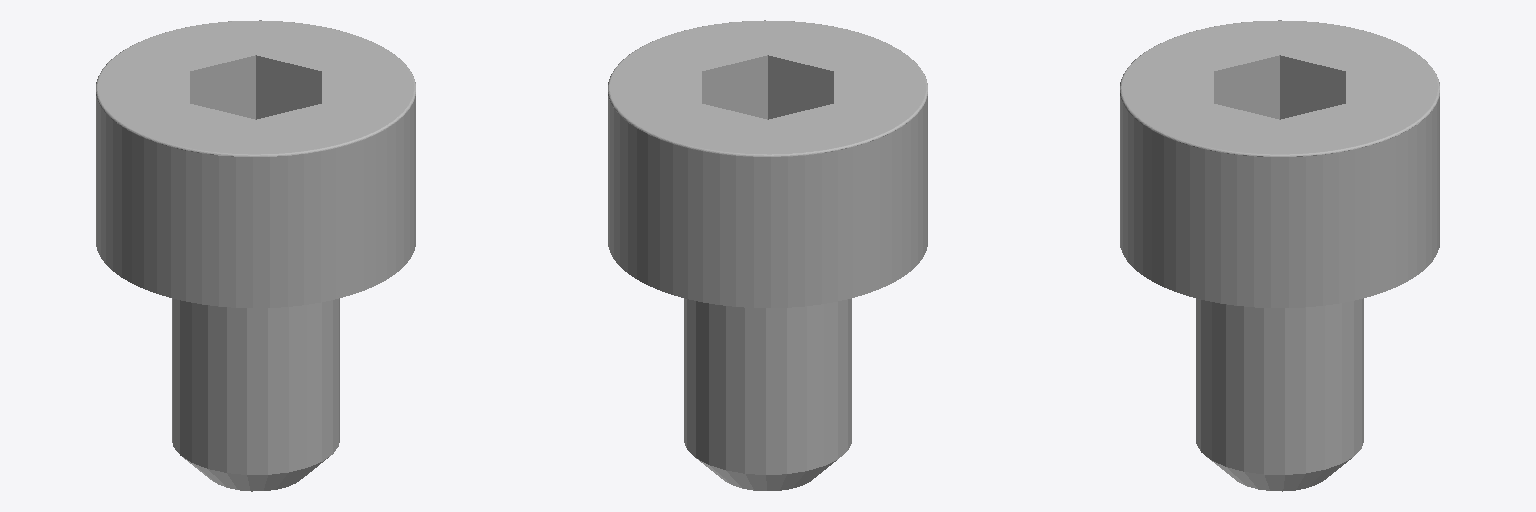
URDF robot description (root):
<?xml version='1.0' encoding='utf-8'?>
<robot name="root">
  <link name="link_001">
    <visual>
      <origin xyz="0 0 0" rpy="0 0 0" />
      <geometry>
        <mesh filename="db7b6dbd7e29129094c08b8166ff0baed32e58bfa805275fc31eecfa73c195a7_scale_002.stl" scale="1.0000E+00 1.0000E+00 1.0000E+00" />
      </geometry>
      <material name="">
        <color rgba="7.50E-01 7.50E-01 7.50E-01 1" />
      </material>
    </visual>
    <collision>
      <origin xyz="0 0 0" rpy="0 0 0" />
      <geometry>
        <mesh filename="db7b6dbd7e29129094c08b8166ff0baed32e58bfa805275fc31eecfa73c195a7_scale_002.stl" scale="1.0000E+00 1.0000E+00 1.0000E+00" />
      </geometry>
    </collision>
  </link>
</robot>

--- What the picture shows (computed from the rendered views, not written in the file) ---
Views: 3 orthographic renders of the robot side by side, from view 1: azimuth 30°, elevation 25°; view 2: azimuth 150°, elevation 25°; view 3: azimuth 270°, elevation 25°.
Model root with 1 links and 0 joints (none), rooted at link_001, posed every joint at zero.
Links seen in each view (by area): view 1: link_001; view 2: link_001; view 3: link_001.
Boxes of the visible links, x1,y1,x2,y2 form: link_001: (96,20,415,491); link_001: (608,20,927,490); link_001: (1120,20,1439,491).
Size in the robot's own frame: 0.0912 by 0.0912 by 0.12 metres.
1 mesh visuals loaded from 1 distinct referenced files (1 binary STL).
